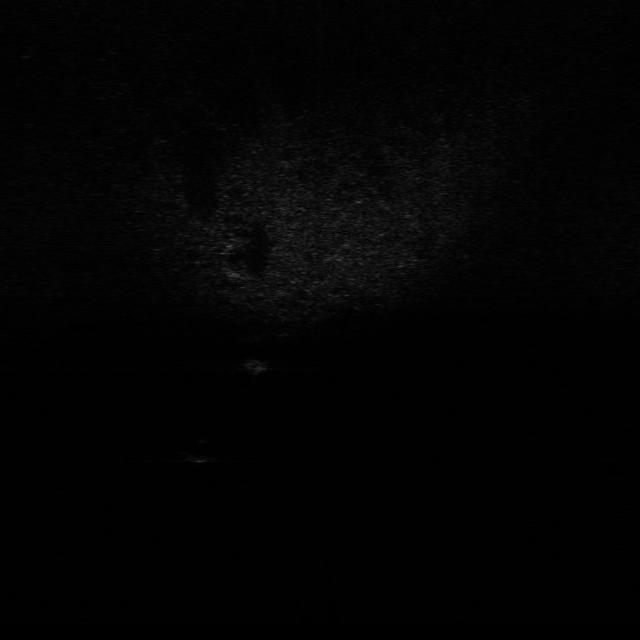ball: (183, 437, 218, 467)
cube: (237, 357, 274, 375)
